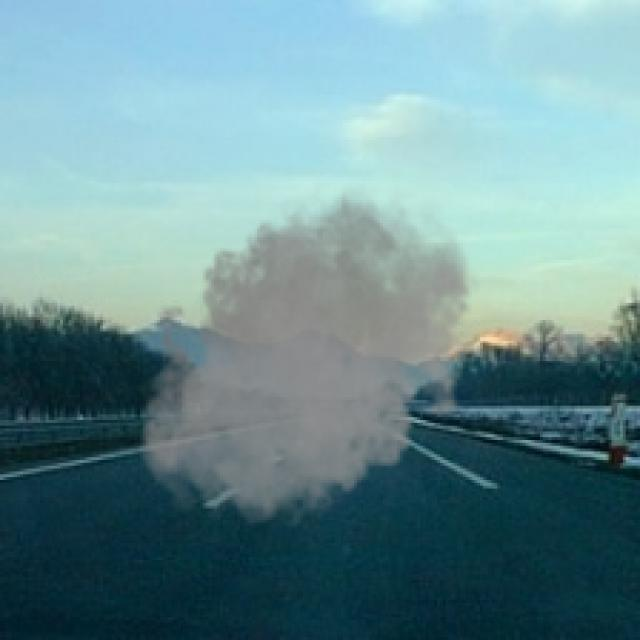smoke: (134, 175, 483, 534)
